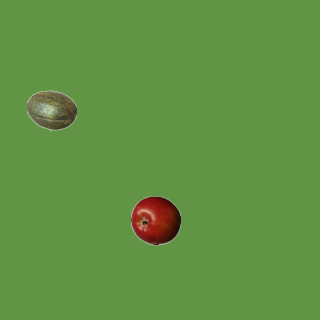Apple Braeburn: (130, 195, 180, 245)
Melon Piel de Sapo: (26, 85, 76, 135)
